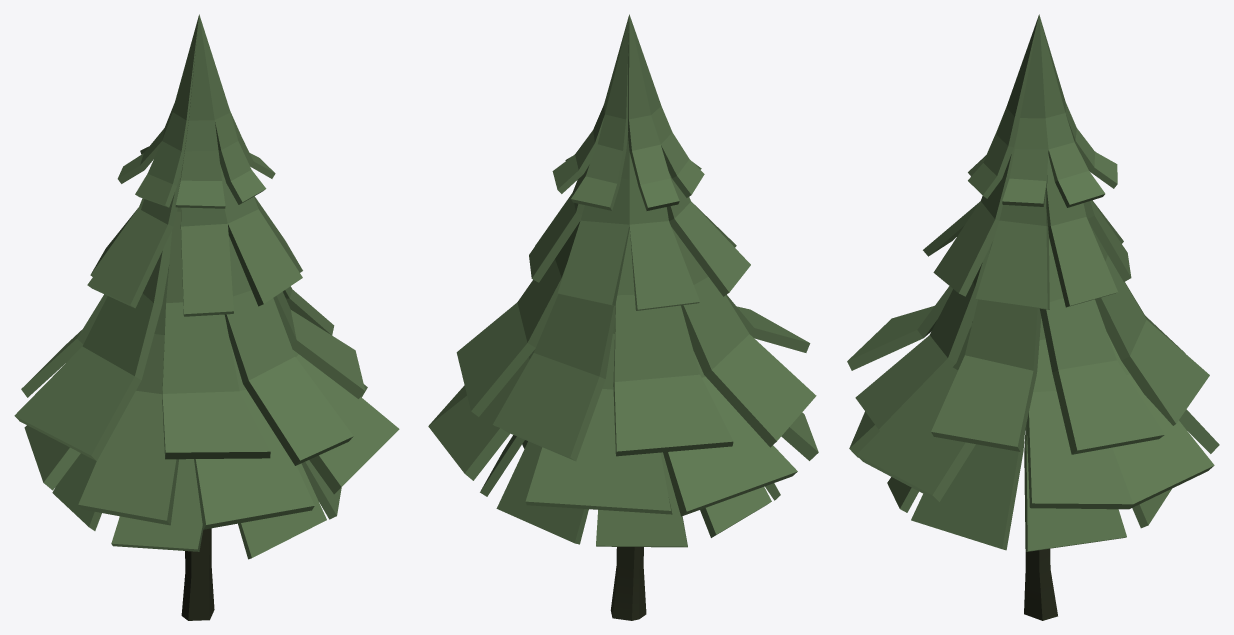
The model's file is PineTree_2.fbx.
3 views of the same model, side by side, from view 1: azimuth 30°, elevation 25°; view 2: azimuth 150°, elevation 25°; view 3: azimuth 270°, elevation 25° (orthographic).
Parts seen in each view (by area): view 1: polySurface27; view 2: polySurface27; view 3: polySurface27.
Part boxes in pixels (x1,y1,x2,y2): polySurface27: [14, 14, 399, 620]; polySurface27: [428, 14, 818, 620]; polySurface27: [847, 14, 1219, 620].
Size of the model in its own units: 47.1 by 81.59 by 46.04.
